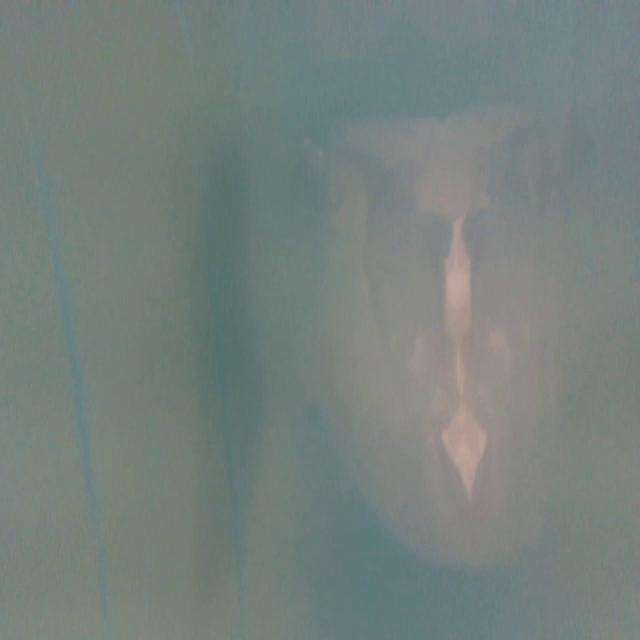plastic bags: (298, 113, 562, 573)
